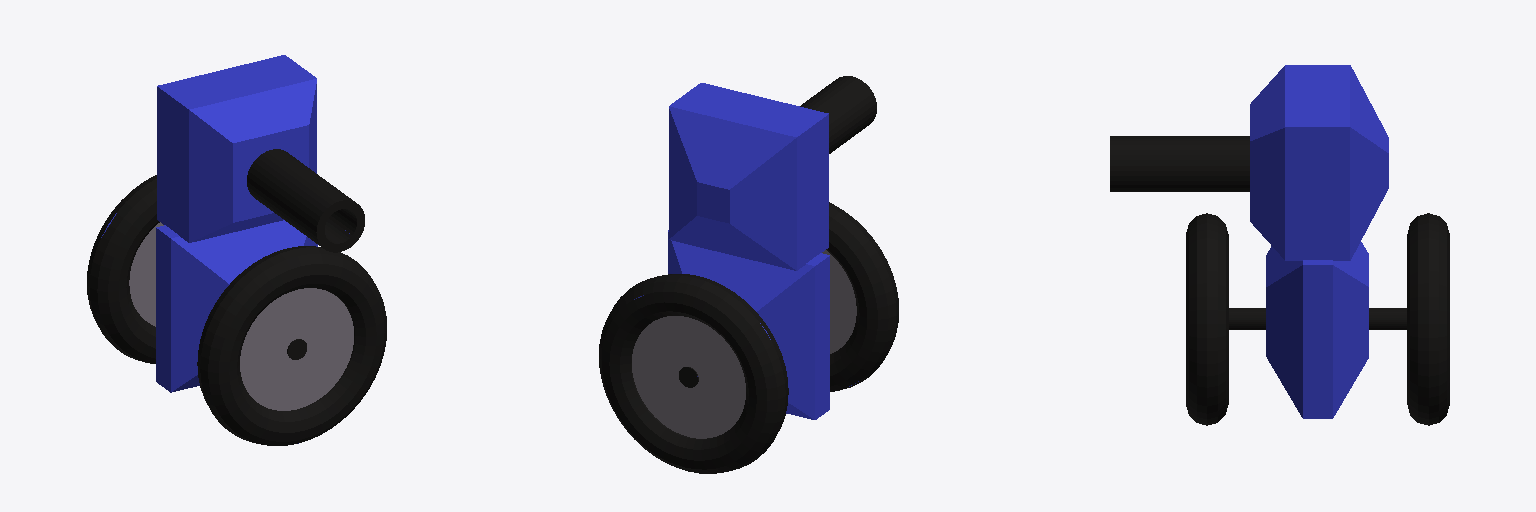
The picture shows the model from 3 angles: view 1: azimuth 30°, elevation 25°; view 2: azimuth 150°, elevation 25°; view 3: azimuth 270°, elevation 25°; orthographic projection.
Parts seen in each view (by area): view 1: 立方体, トーラス.001, Cube, 円柱, トーラス, 円柱.003, 円柱.001; view 2: 立方体, トーラス, Cube, 円柱.001, トーラス.001, 円柱.003, 円柱; view 3: 立方体, Cube, トーラス, トーラス.001, 円柱.003, 円柱.002.
Boxes of the visible parts, x1,y1,x2,y2 form: 立方体: [157, 55, 316, 242]; トーラス.001: [197, 246, 386, 445]; Cube: [156, 220, 317, 392]; 円柱: [240, 288, 353, 410]; トーラス: [87, 175, 159, 363]; 円柱.003: [247, 149, 364, 252]; 円柱.001: [129, 222, 163, 326]; 立方体: [669, 83, 828, 270]; トーラス: [599, 274, 788, 473]; Cube: [668, 230, 829, 419]; 円柱.001: [632, 316, 745, 438]; トーラス.001: [826, 202, 898, 391]; 円柱.003: [800, 76, 876, 153]; 円柱: [822, 250, 856, 353]; 立方体: [1250, 65, 1388, 260]; Cube: [1266, 242, 1368, 418]; トーラス: [1407, 213, 1449, 425]; トーラス.001: [1186, 213, 1228, 425]; 円柱.003: [1110, 136, 1249, 191]; 円柱.002: [1229, 308, 1406, 329].
Size of the model in its own units: 2.5 by 4.15 by 3.99.
Materials: 8 (1 with a texture image).